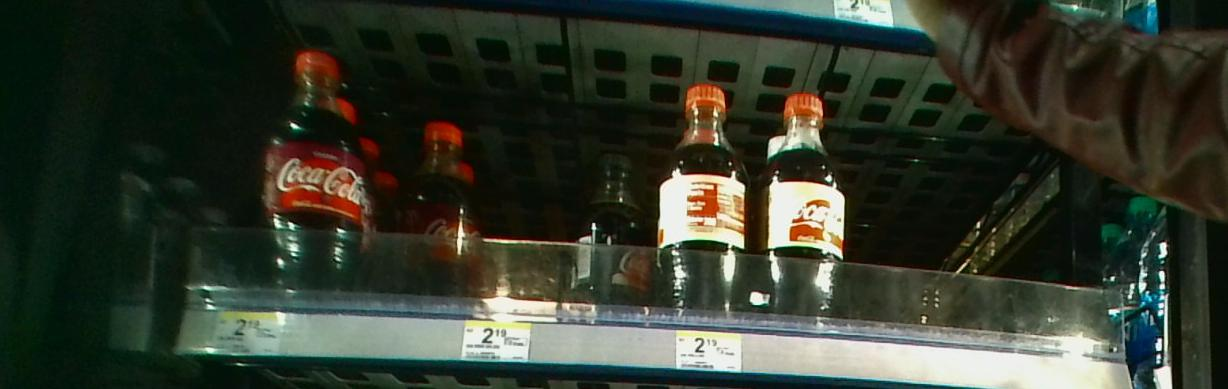bottle: (253, 35, 378, 298), (749, 79, 847, 321), (658, 80, 753, 324), (556, 108, 658, 321), (383, 108, 477, 301)
